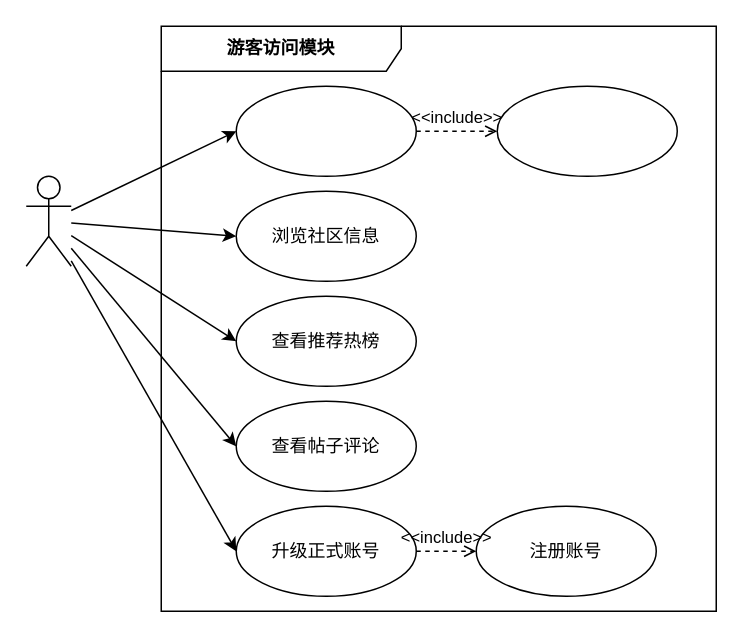
This 743x638 diagram has some shape labels left out. The shapes that lost their labels are listed below. From the top down, each one's centre as x and y in pixels, then its label:
At (325,130): "游客登录".
At (586,130): "签发游客令牌".
At (48,220): "游客".
